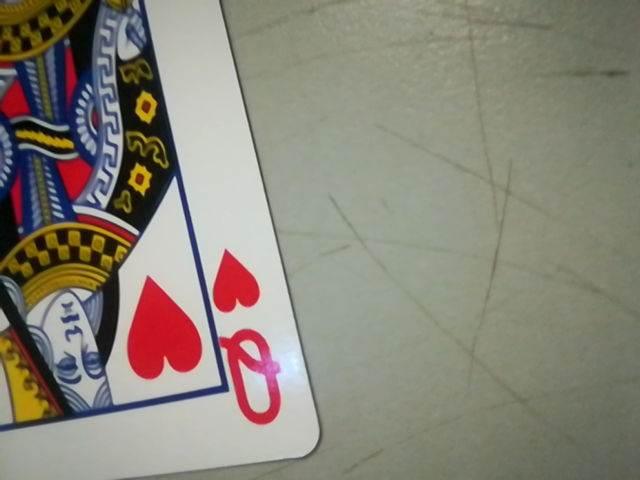hx q: (204, 242, 295, 447)
